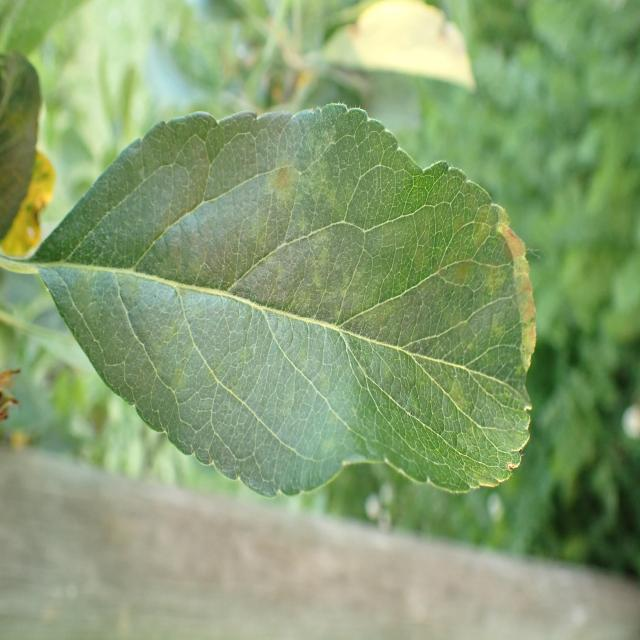scab: (82, 101, 537, 483)
